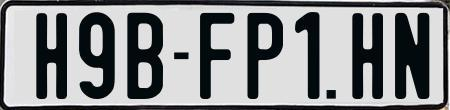1: (292, 9, 322, 100)
9: (78, 12, 118, 104)
B: (126, 13, 165, 103)
F: (199, 11, 233, 101)
H: (349, 10, 386, 102), (35, 11, 72, 102)
N: (395, 13, 430, 100)
P: (246, 13, 287, 102)
